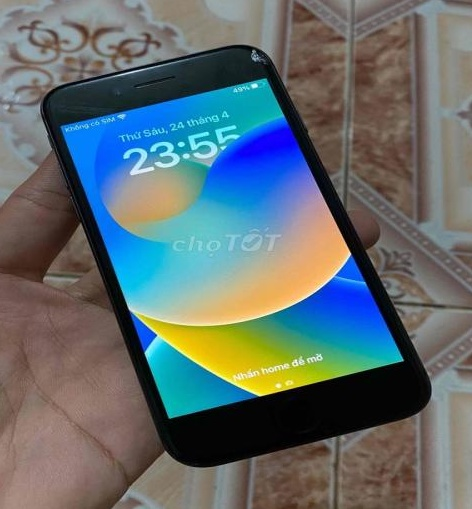physical_damage: (224, 41, 279, 74)
scratch: (44, 92, 129, 128)
